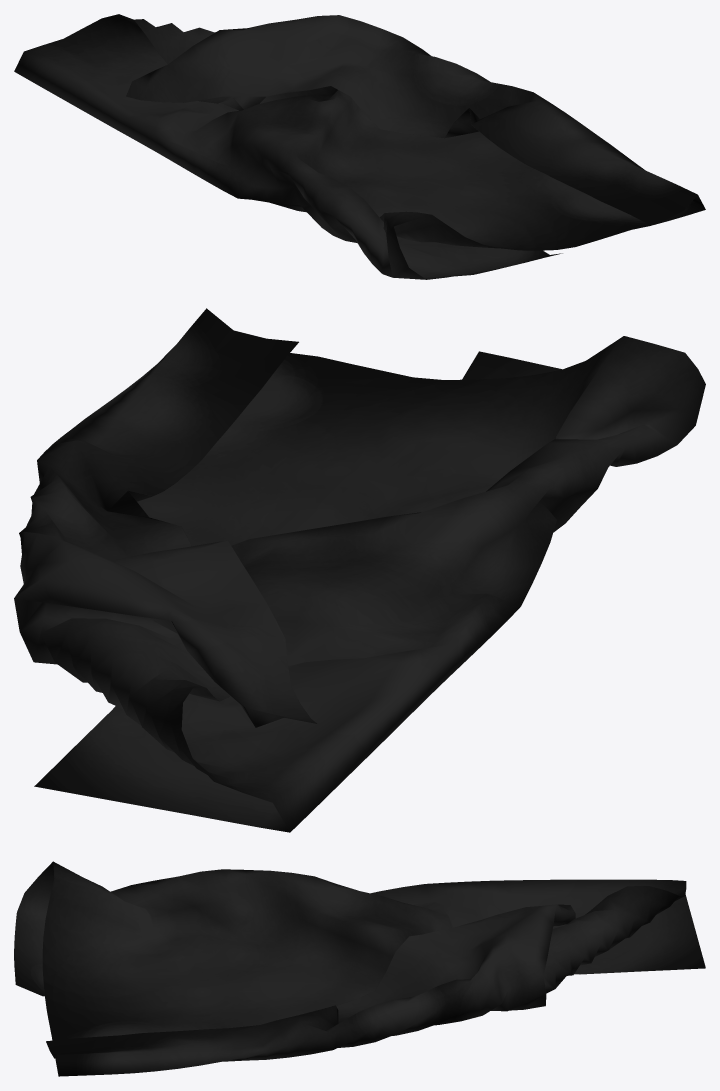
File: cloth3_everything_v1.fbx
3 renders of one model, top to bottom at view 1: azimuth 30°, elevation 25°; view 2: azimuth 150°, elevation 25°; view 3: azimuth 270°, elevation 25°, orthographic. The views are drawn at different scales.
Parts seen in each view (by area): view 1: Cloth3; view 2: Cloth3; view 3: Cloth3.
Part boxes in pixels (x1,y1,x2,y2): Cloth3: (14, 14, 705, 279); Cloth3: (14, 308, 705, 832); Cloth3: (14, 861, 705, 1076).
Bounding box in the file's own units: 253 × 42.53 × 404.
